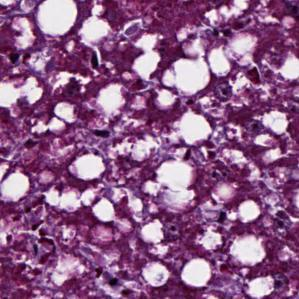steatosis: (180, 253, 213, 289)
